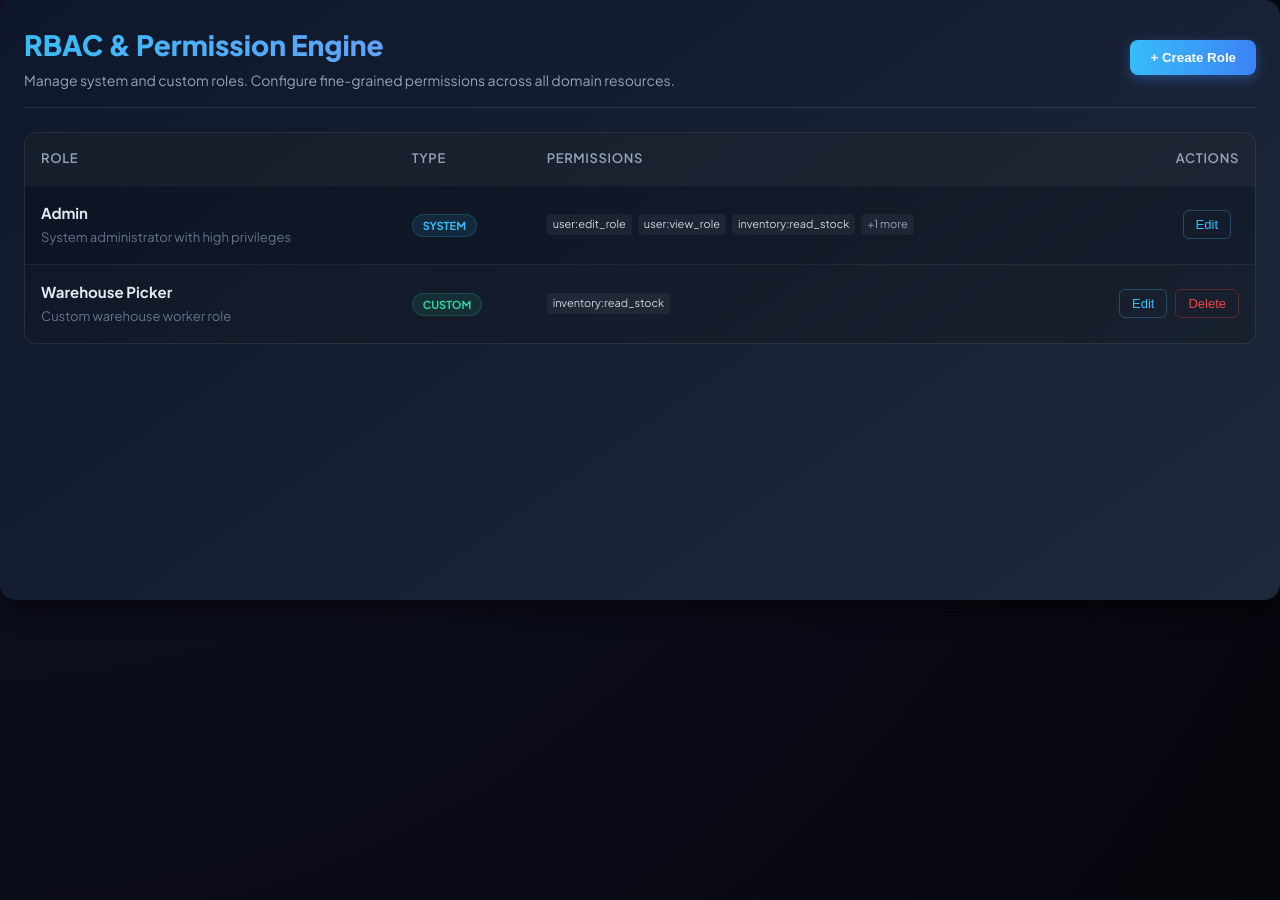
RoleManagementPanel › surfaces error when deleting role fails
The width and height of the screenshot is (1280, 900).
Expected: the text "Warehouse Picker" is shown, [41, 282, 172, 300]
Click the button with aria-label "Delete role Warehouse Picker".
click(1207, 304)  # box [1175, 289, 1239, 318]
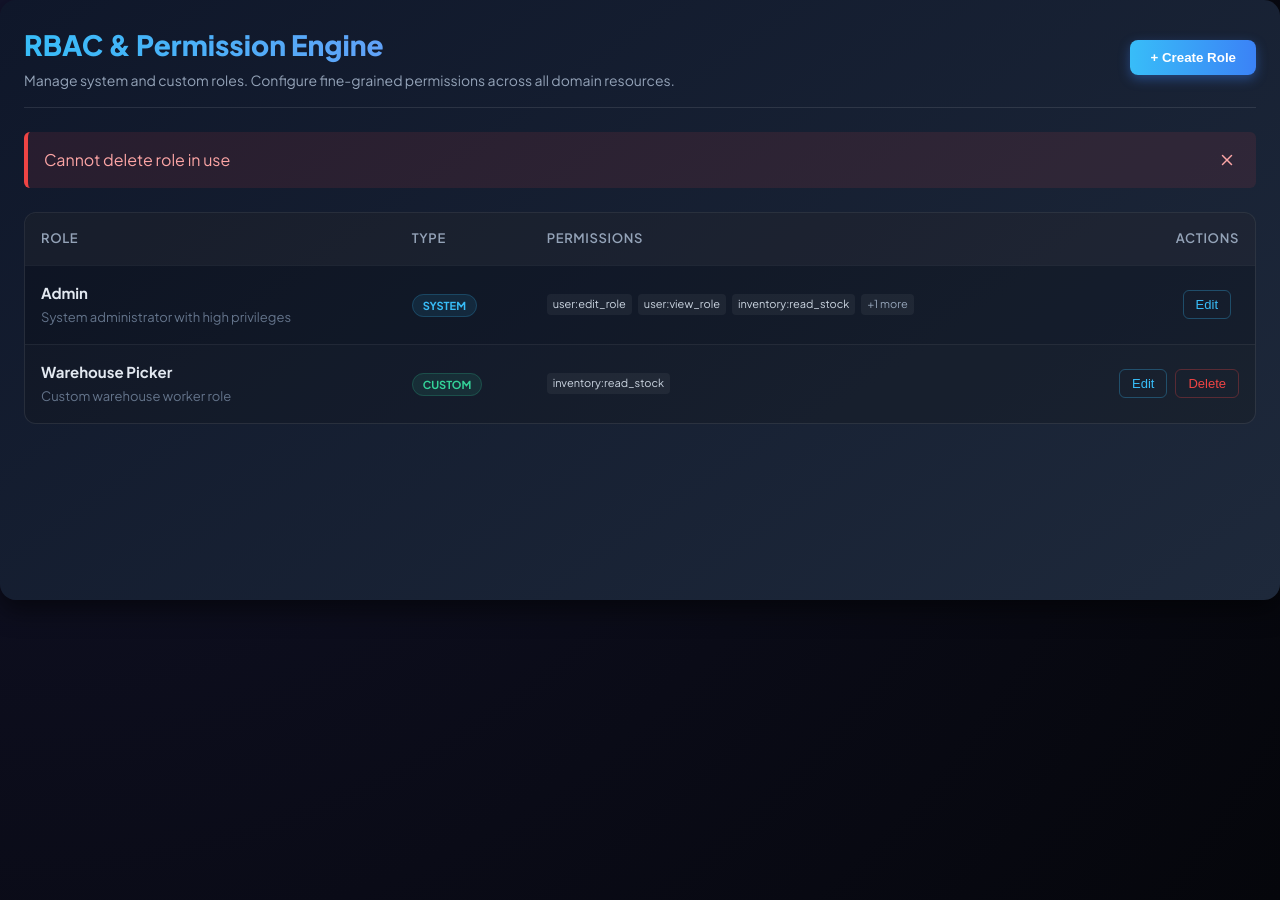
Expected: the message reads "Cannot delete role in use", [44, 149, 230, 170]
